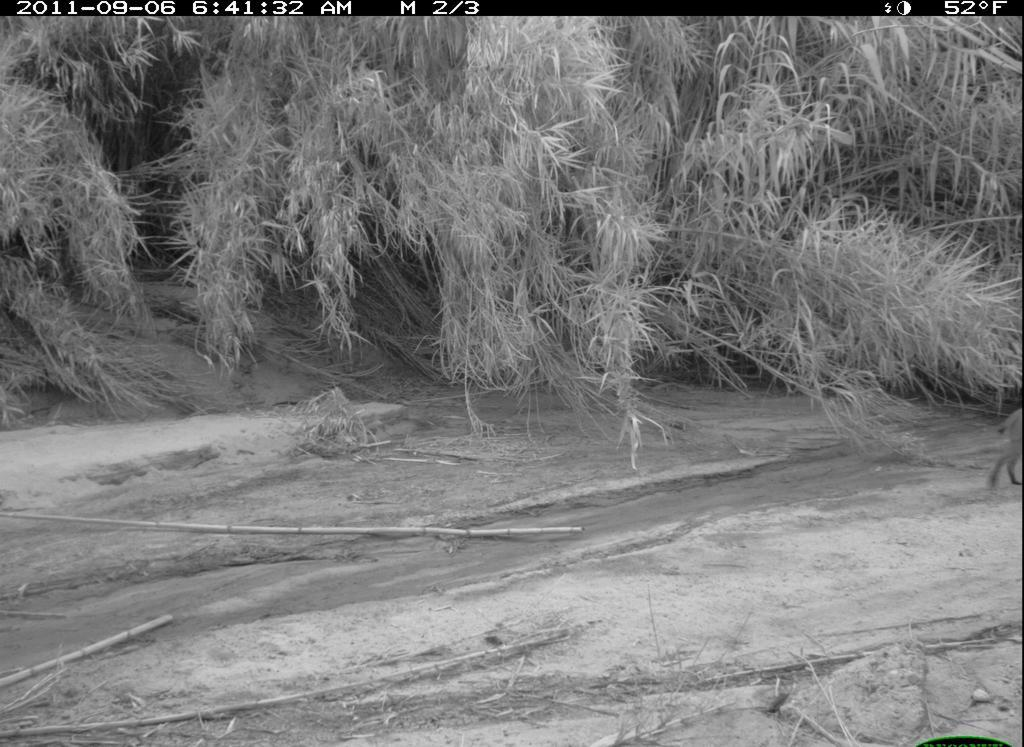bobcat: (986, 405, 1023, 493)
